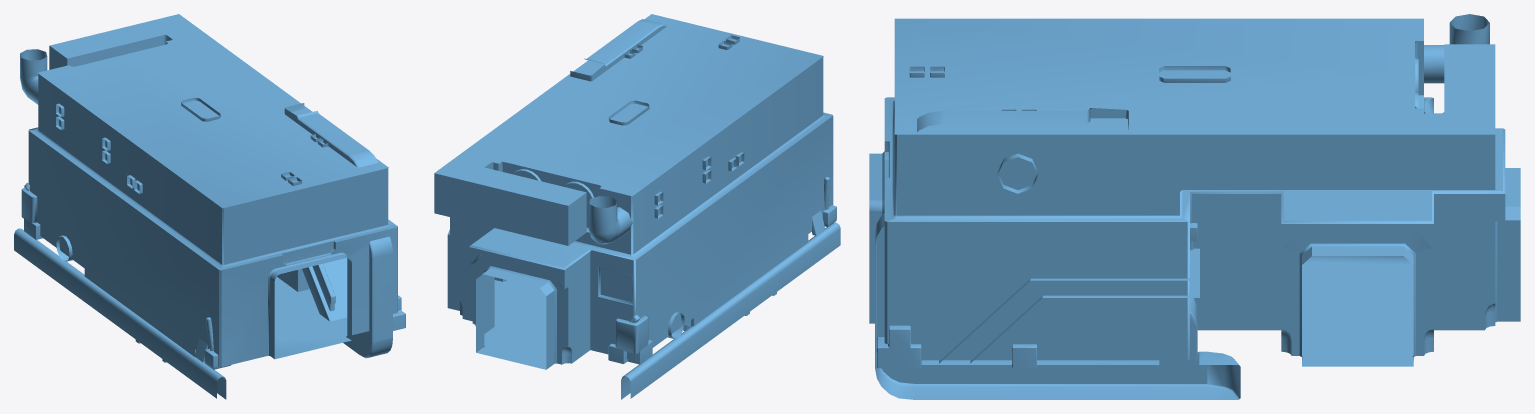
Rendered from effectproxies_warehouse_barrierfloor_nnne_02.fbx.
3 renders of one model, left to right at view 1: azimuth 30°, elevation 25°; view 2: azimuth 150°, elevation 25°; view 3: azimuth 270°, elevation 25°, orthographic. The views are drawn at different scales.
Parts seen in each view (by area): view 1: warehouse_barrierfloor_nnne_02; view 2: warehouse_barrierfloor_nnne_02; view 3: warehouse_barrierfloor_nnne_02.
Boxes of the visible parts, x1,y1,x2,y2 form: warehouse_barrierfloor_nnne_02: (14,14,405,399); warehouse_barrierfloor_nnne_02: (434,14,840,399); warehouse_barrierfloor_nnne_02: (869,14,1520,399).
Bounding box in the file's own units: 31.31 × 30.72 × 64.
